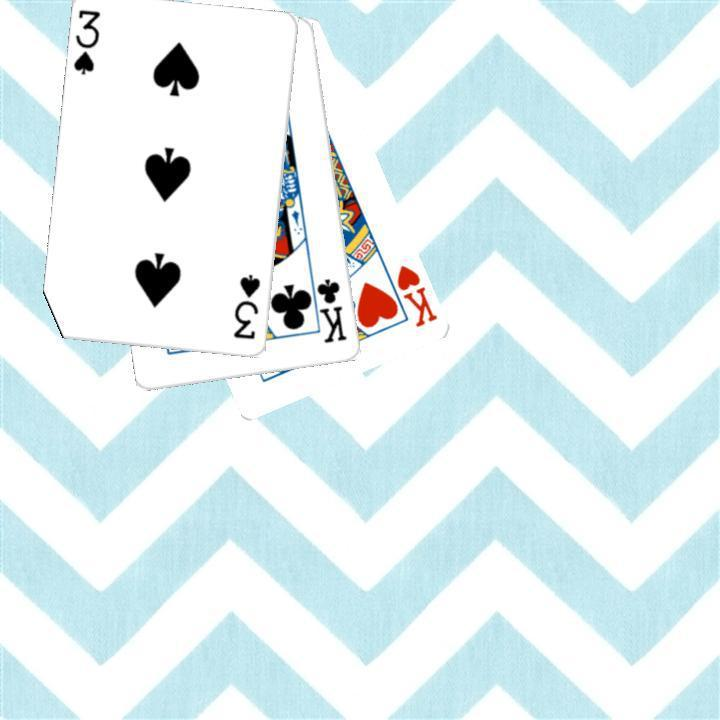3: (229, 271, 263, 342), (70, 5, 102, 77)
K: (305, 270, 349, 345), (393, 261, 440, 330)
